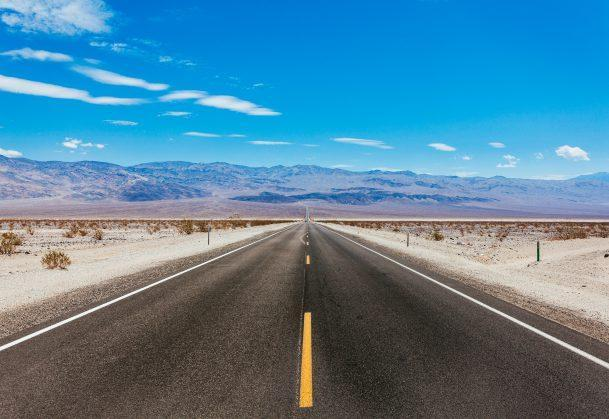cloud: (0, 0, 141, 110)
